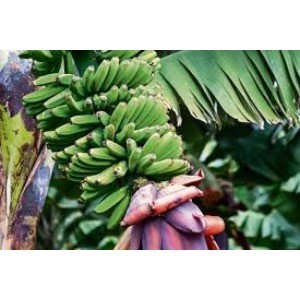banana_brain food: (44, 83, 175, 181)
